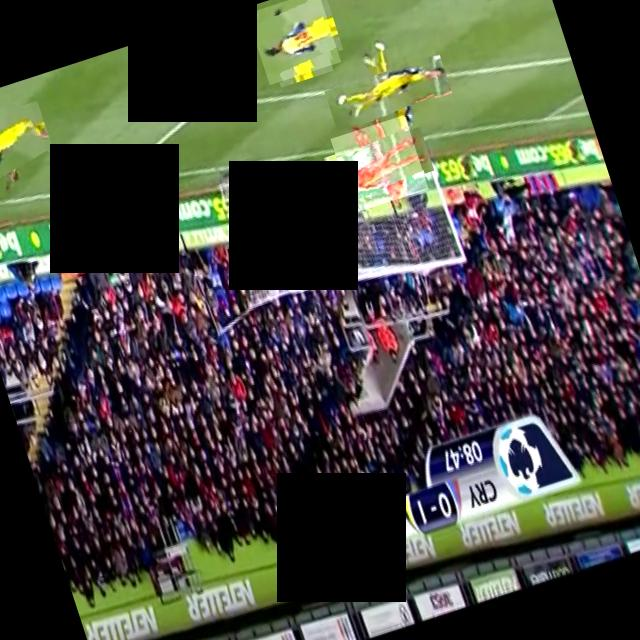goalkeeper: (331, 115, 428, 213)
soccer-player: (335, 40, 441, 145), (246, 0, 341, 85), (0, 87, 54, 202)
